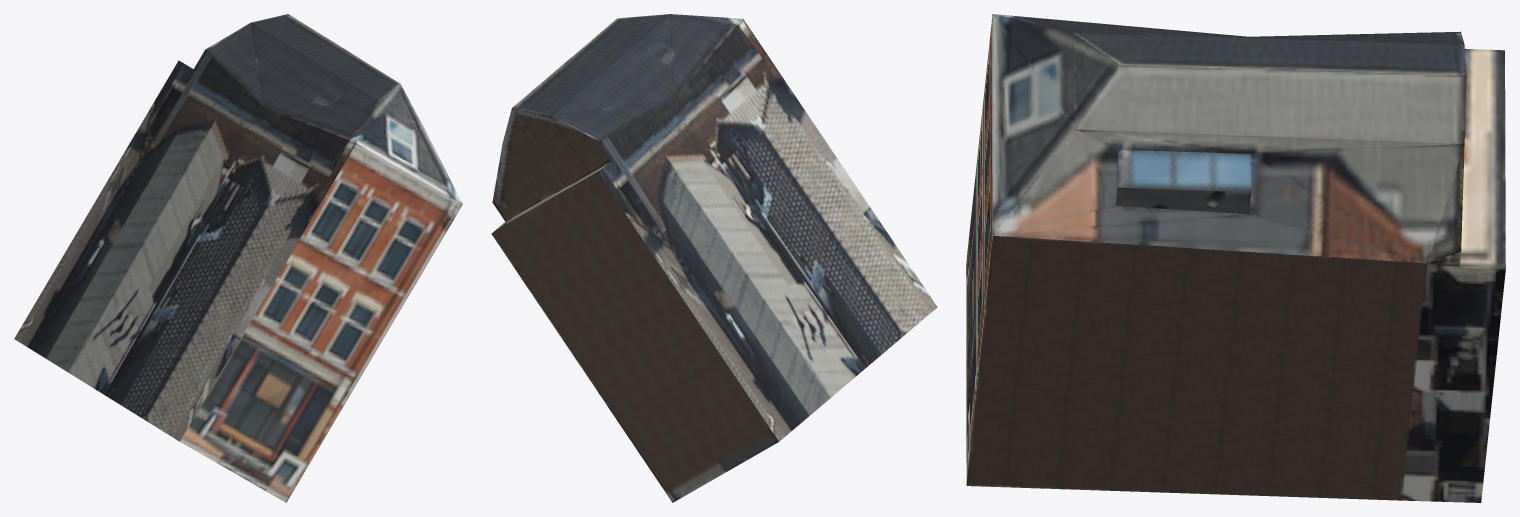
3 views of the same model, side by side, from view 1: azimuth 30°, elevation 25°; view 2: azimuth 150°, elevation 25°; view 3: azimuth 270°, elevation 25° (orthographic). The views are drawn at different scales.
Parts seen in each view (by area): view 1: BAG_0599100000688746 (×3); view 2: BAG_0599100000688746 (×4); view 3: BAG_0599100000688746 (×6).
Boxes of the visible parts, <box> form: BAG_0599100000688746 (×3): <box>14,14,462,502</box>; BAG_0599100000688746 (×4): <box>491,14,937,502</box>; BAG_0599100000688746 (×6): <box>966,14,1505,502</box>.
Size of the model in its own units: 11.81 by 13.46 by 11.5.
Materials: 7 (7 with a texture image).
